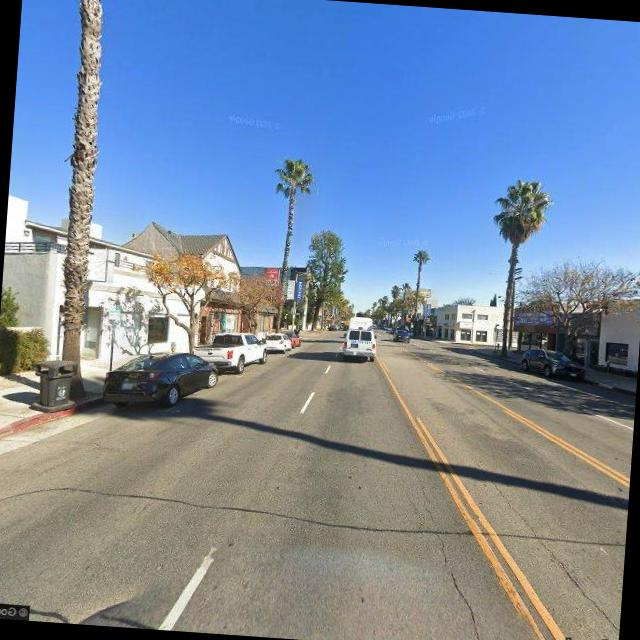pothole: (478, 472, 630, 630), (398, 465, 494, 640)
